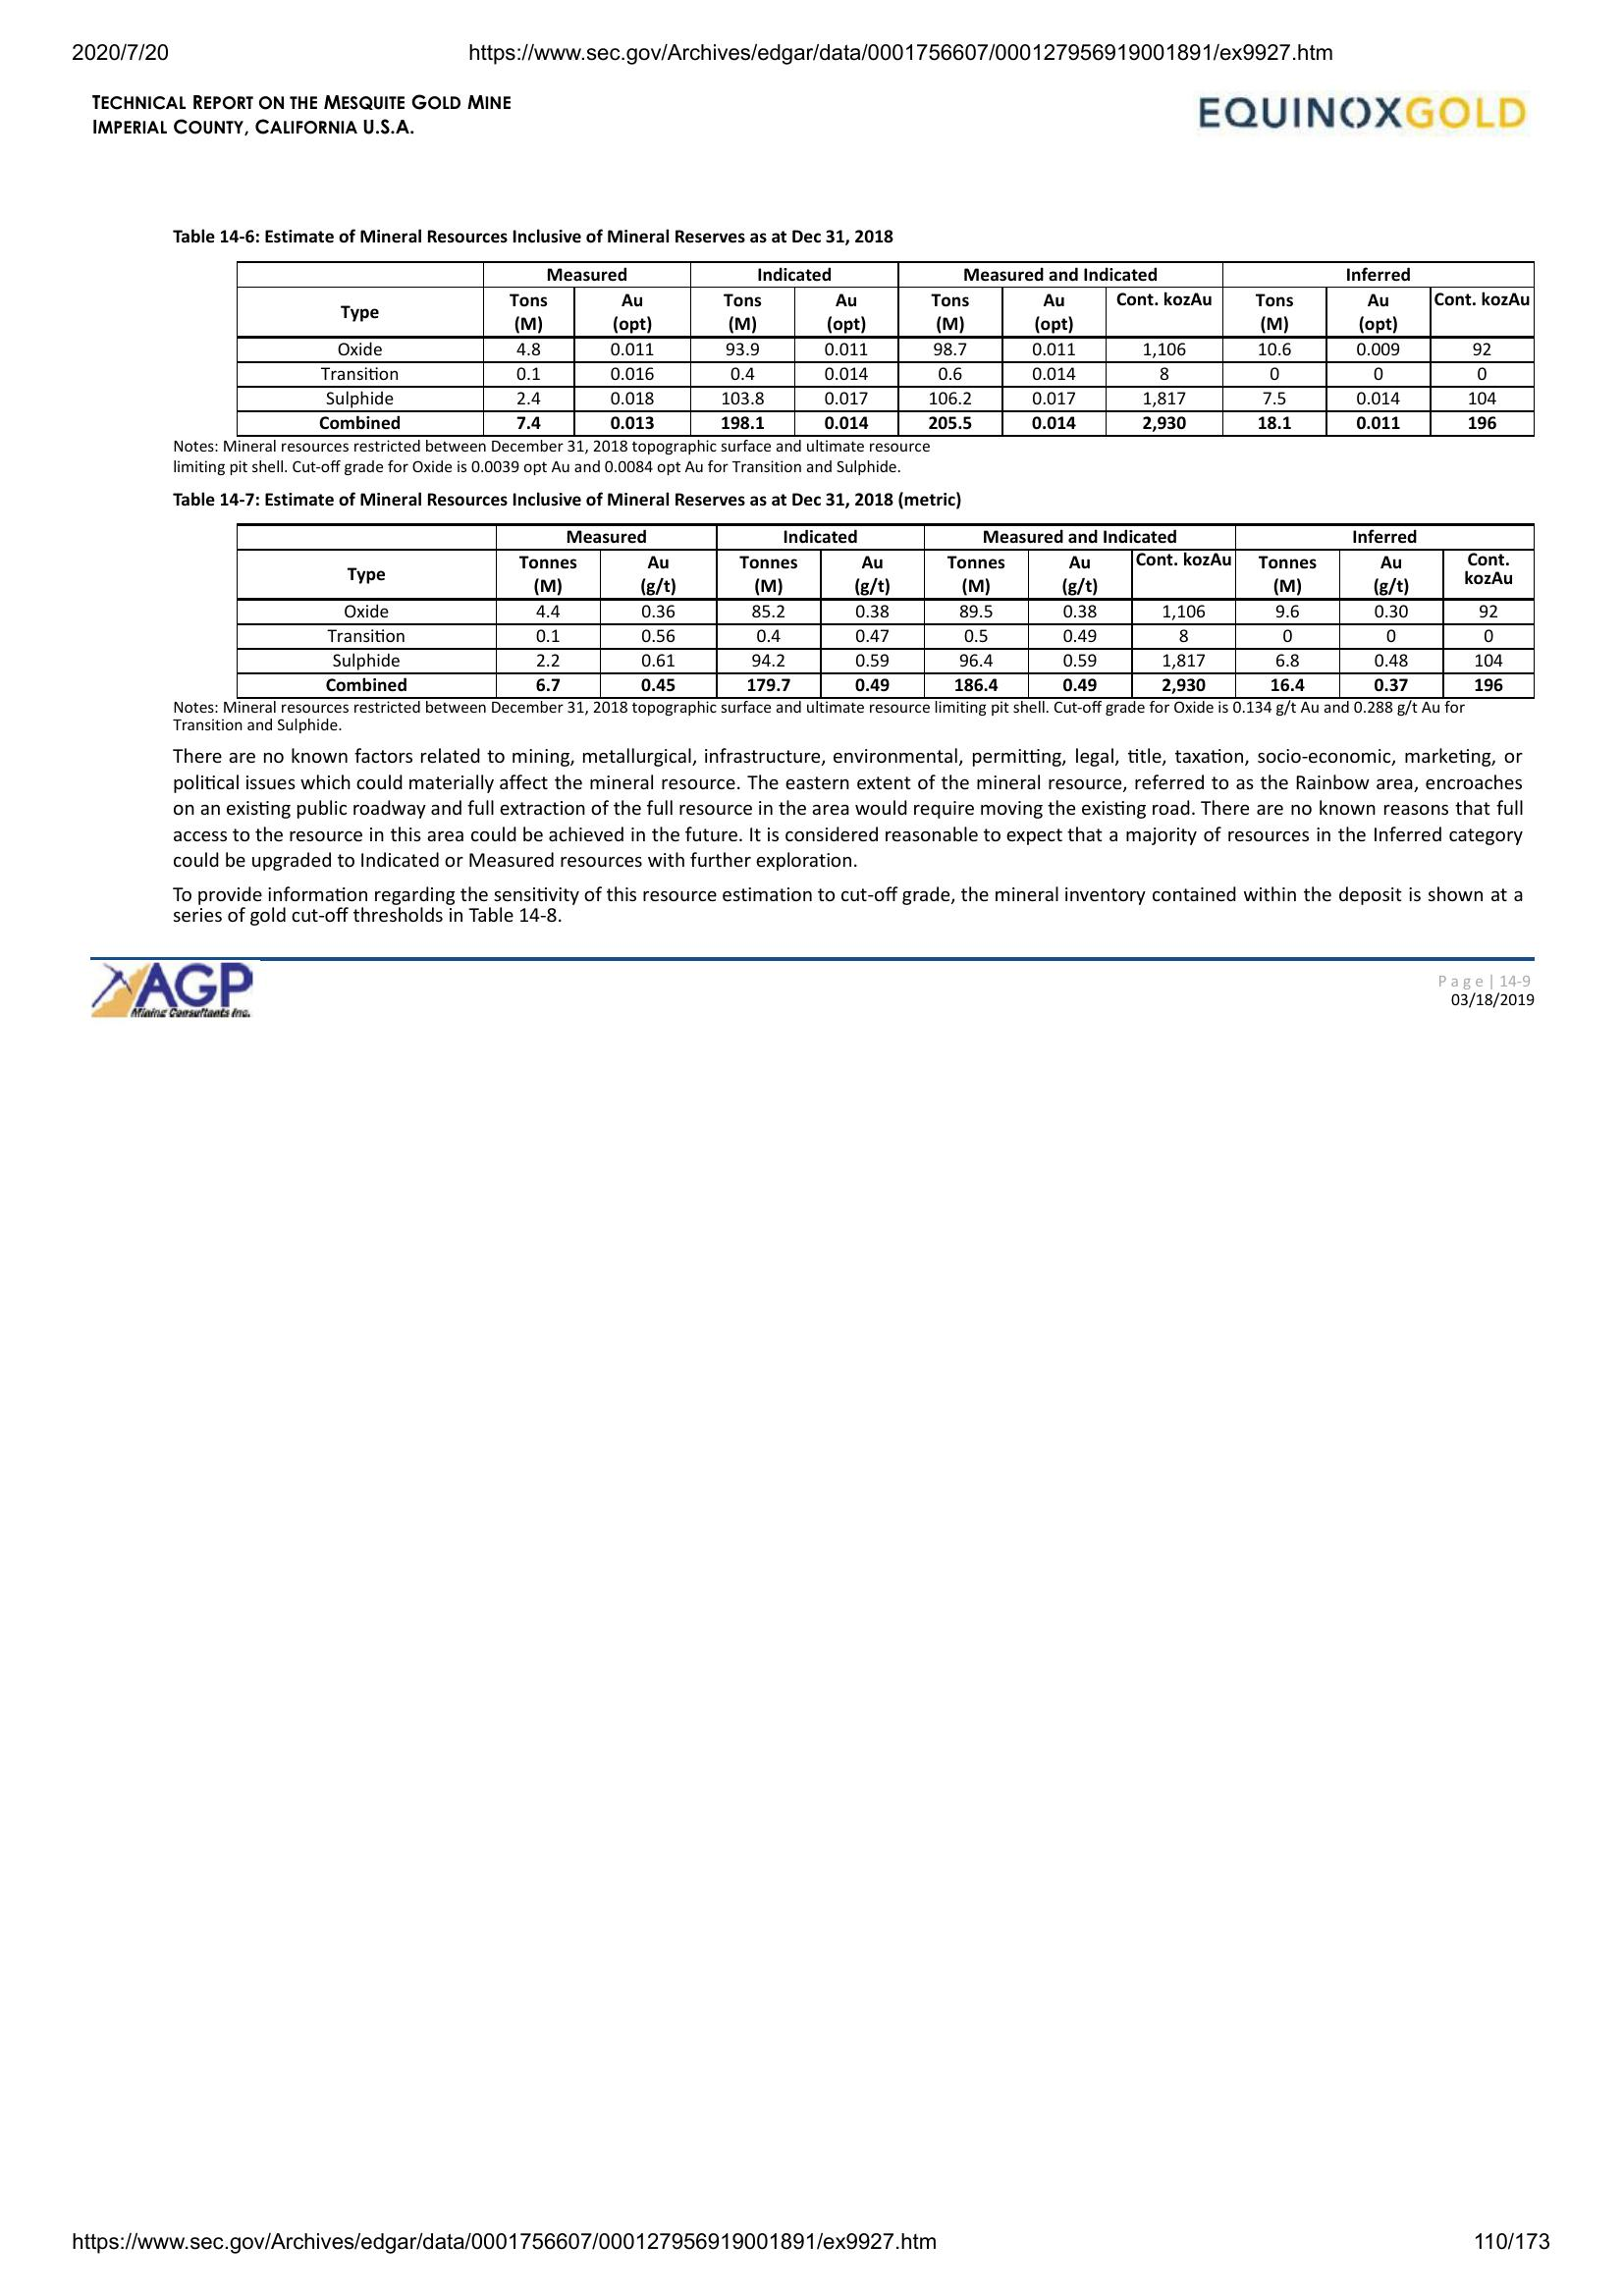table: (227, 251, 1539, 442), (227, 520, 1544, 706)
